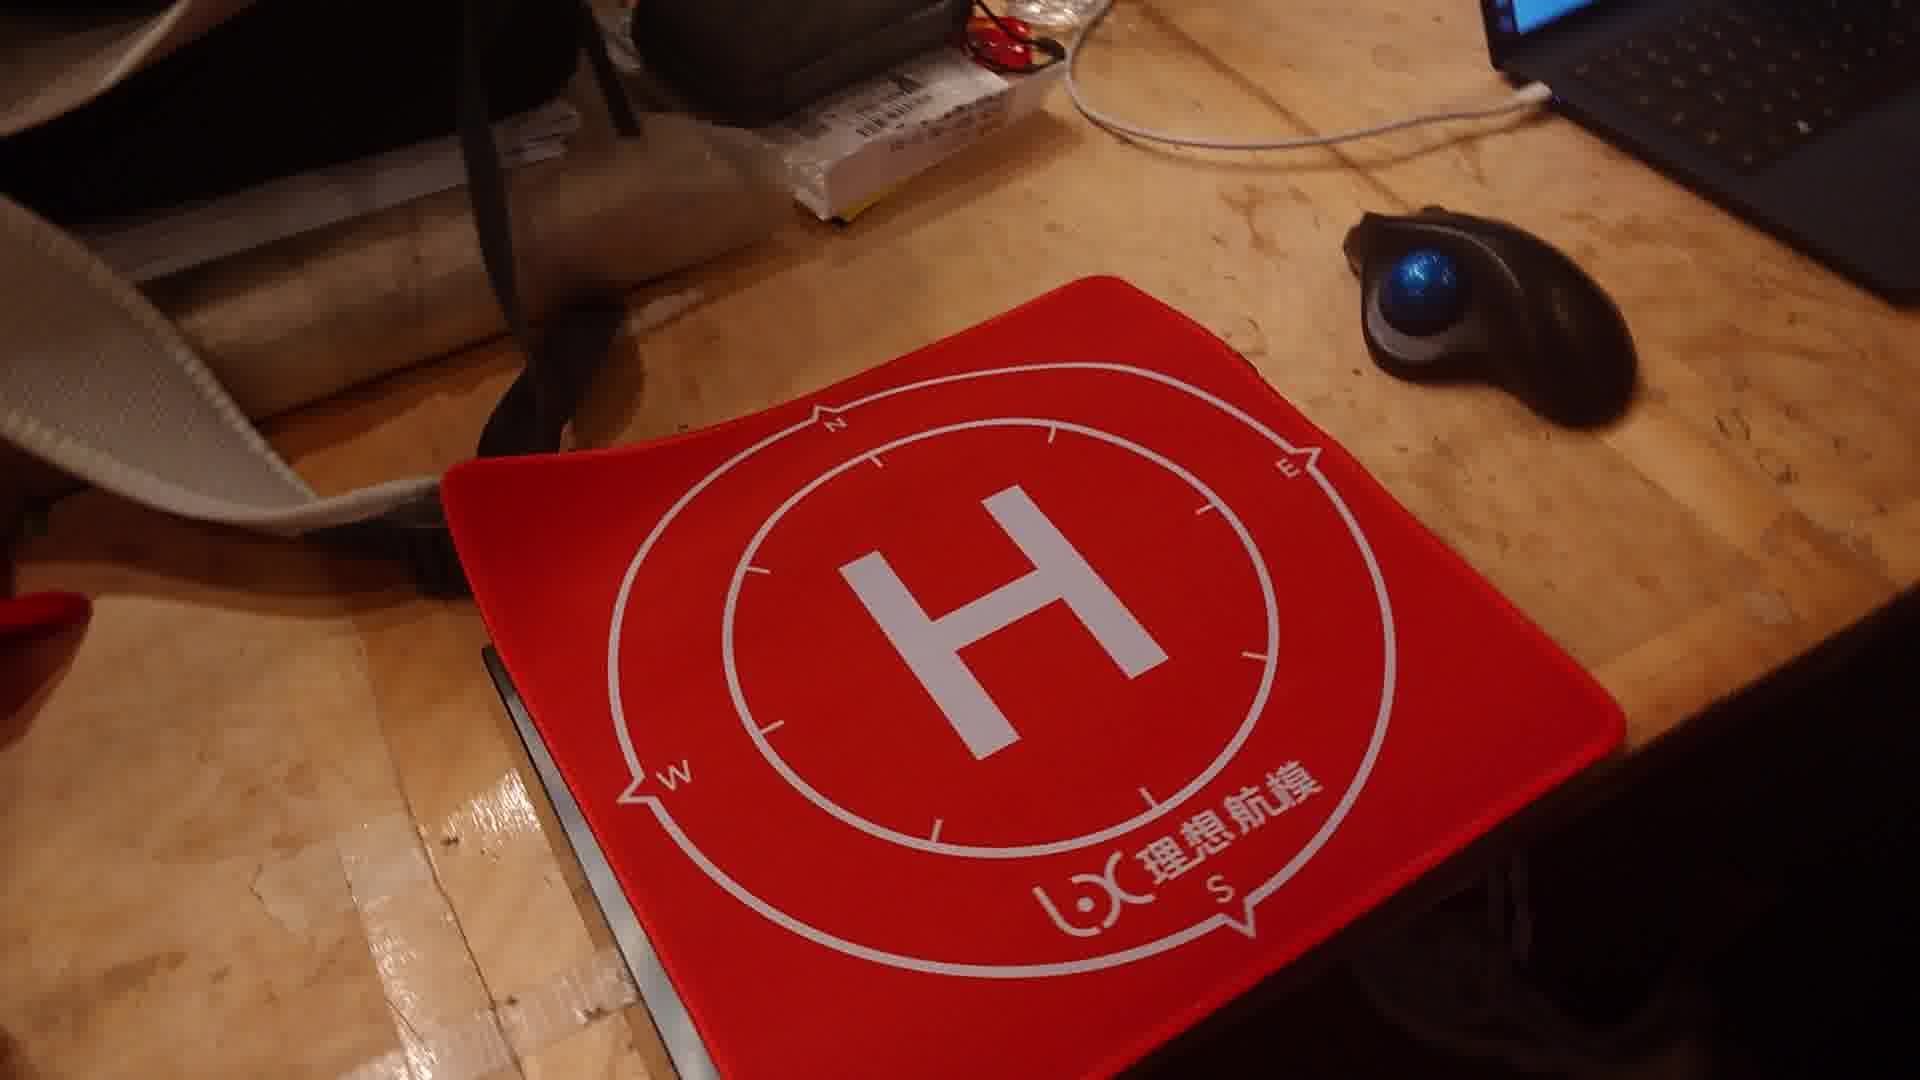H: (836, 485, 1172, 761)
